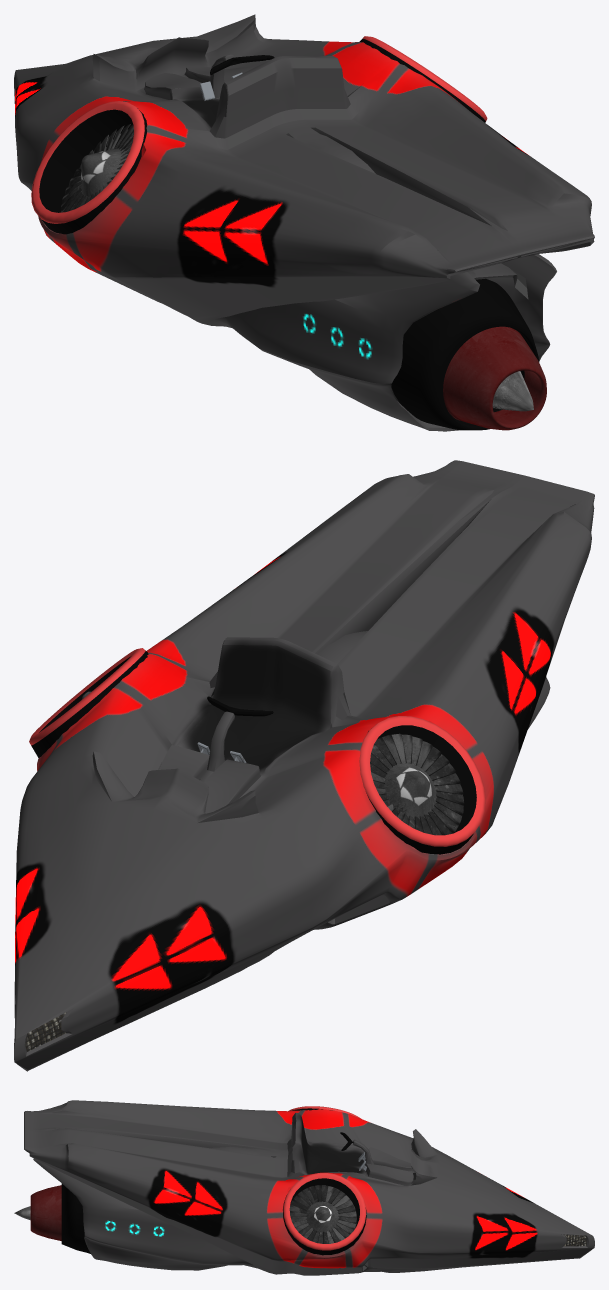
File: salecyyber.fbx
3 renders of one model, top to bottom at view 1: azimuth 30°, elevation 25°; view 2: azimuth 150°, elevation 25°; view 3: azimuth 270°, elevation 25°, orthographic. The views are drawn at different scales.
Parts seen in each view (by area): view 1: Cube, kabuk.001, kabuk.002, fan.002, kabuk.003; view 2: Cube, fan.002, kabuk.002, kabuk.003; view 3: Cube, fan.003, kabuk.001, kabuk.003.
Part boxes in pixels (x1=…): Cube: x1=14, y1=14, x2=594, y2=431; kabuk.001: x1=391, y1=278, x2=546, y2=430; kabuk.002: x1=31, y1=101, x2=147, y2=234; fan.002: x1=61, y1=124, x2=133, y2=212; kabuk.003: x1=359, y1=36, x2=487, y2=122; Cube: x1=14, y1=460, x2=594, y2=1071; fan.002: x1=370, y1=733, x2=464, y2=835; kabuk.002: x1=359, y1=716, x2=485, y2=854; kabuk.003: x1=29, y1=648, x2=148, y2=758; Cube: x1=24, y1=1100, x2=594, y2=1275; fan.003: x1=289, y1=1185, x2=356, y2=1243; kabuk.001: x1=14, y1=1183, x2=90, y2=1253; kabuk.003: x1=283, y1=1173, x2=366, y2=1255.
Bounding box in the file's own units: 916 × 512 × 1914.
